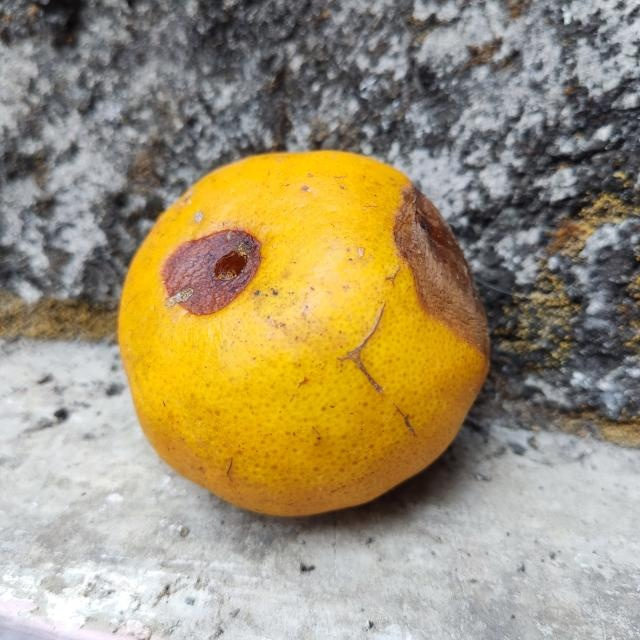agrume: (118, 149, 490, 519)
